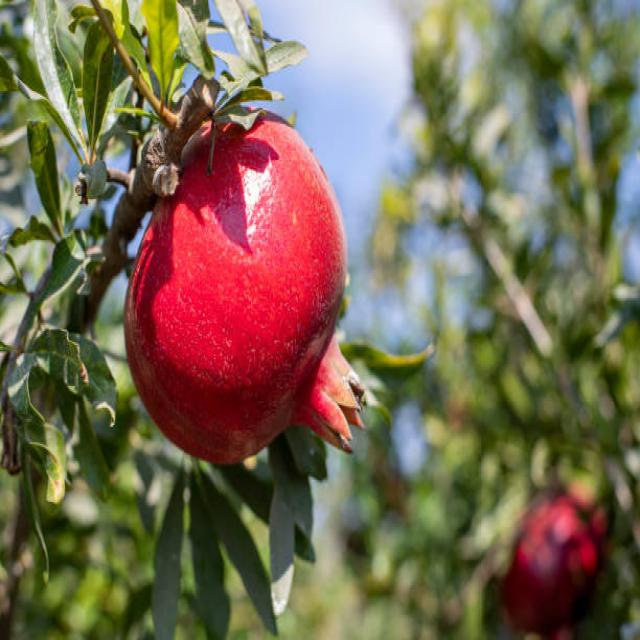Ripe: (121, 106, 369, 471)
